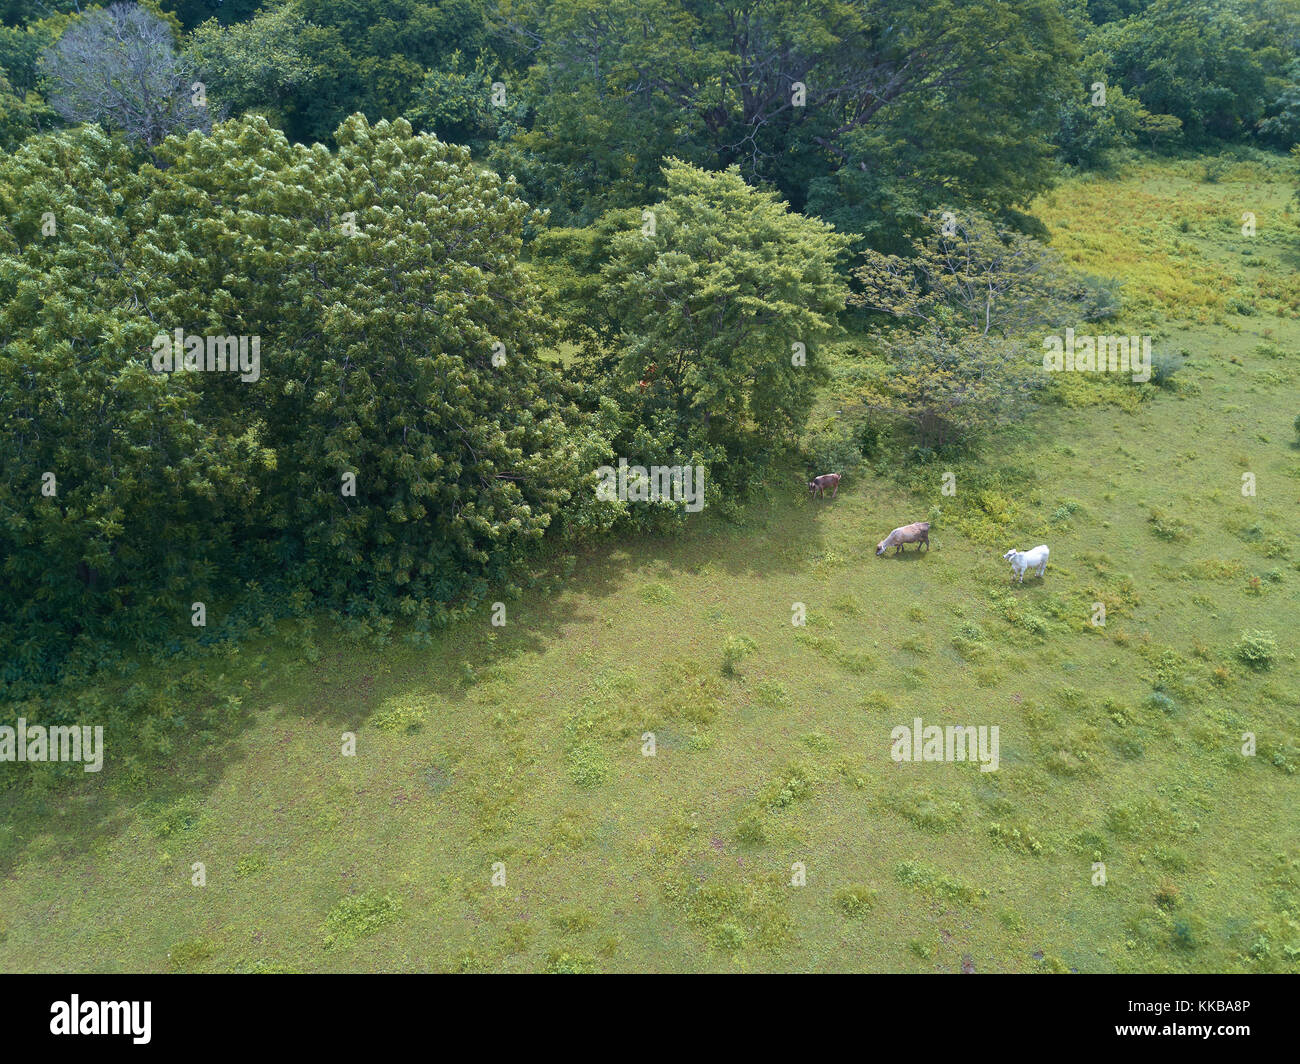cattle: (874, 513, 935, 569), (996, 533, 1053, 587), (802, 464, 851, 508)
